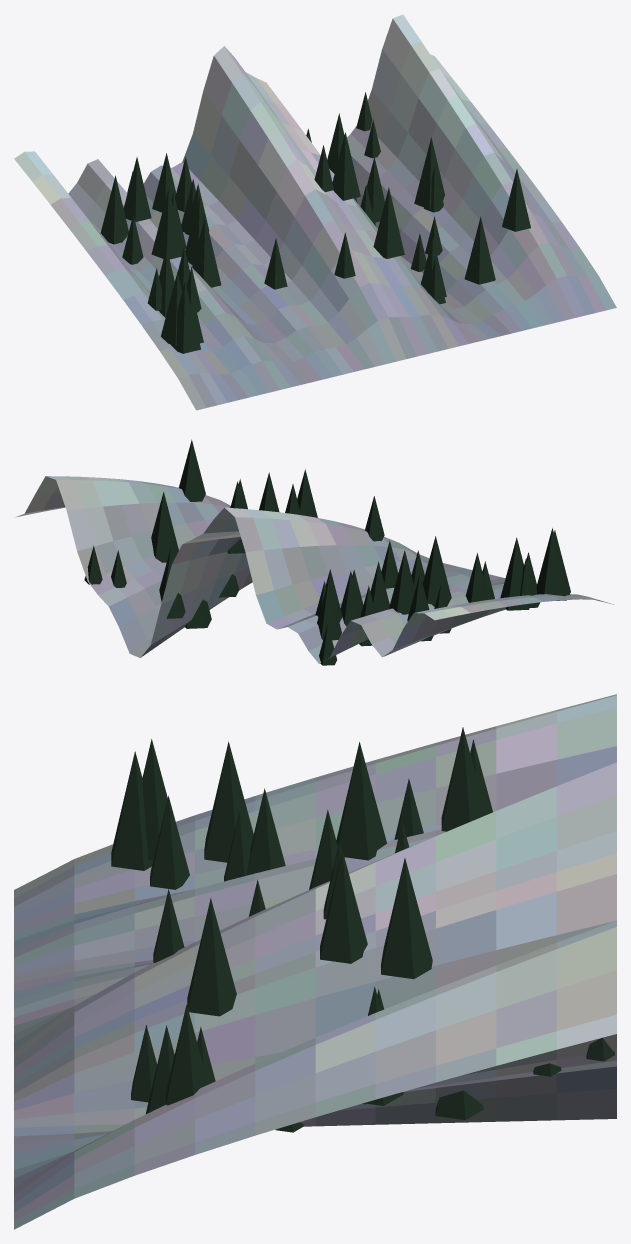
File: bg_snow_ridge_1_idle.glb
3 renders of one model, top to bottom at view 1: azimuth 30°, elevation 25°; view 2: azimuth 150°, elevation 25°; view 3: azimuth 270°, elevation 25°, orthographic. The views are drawn at different scales.
Visible parts, largest first — view 1: ridge; view 2: ridge; view 3: ridge.
Boxes of the visible parts, bbox=[...] form: ridge: bbox=[14, 14, 616, 410]; ridge: bbox=[15, 439, 614, 665]; ridge: bbox=[14, 694, 616, 1229].
Bounding box in the file's own units: 40 × 16.34 × 30.
